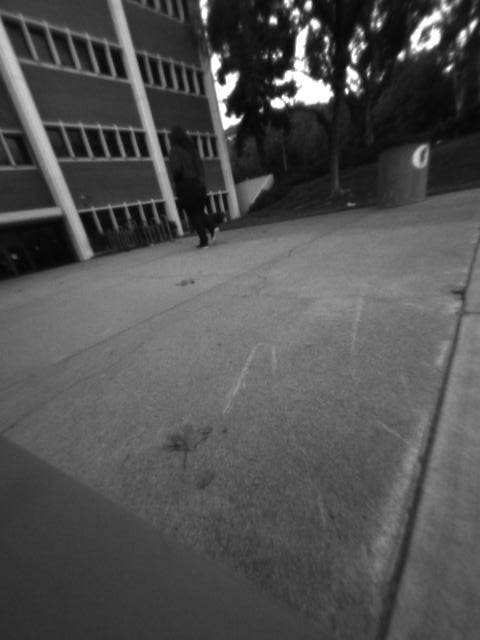trashcan: (377, 133, 435, 207)
